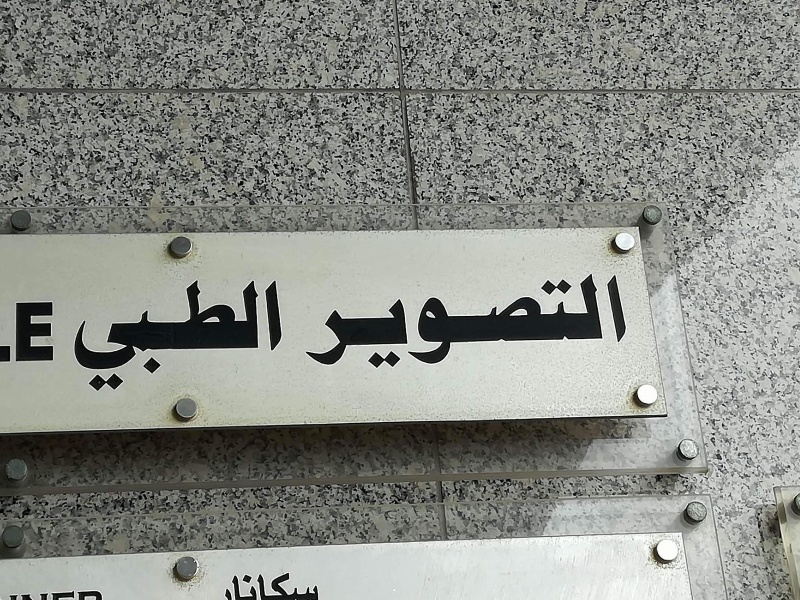text: (81, 278, 96, 392), (97, 278, 112, 392), (113, 278, 128, 392), (129, 278, 144, 392), (145, 278, 160, 392), (161, 278, 176, 392), (177, 278, 192, 392), (193, 278, 208, 392), (209, 278, 224, 392), (225, 278, 240, 392), (241, 278, 256, 392), (257, 278, 272, 392), (321, 272, 336, 372), (337, 272, 352, 372), (353, 272, 368, 372), (369, 272, 384, 372), (385, 272, 400, 372), (401, 272, 416, 372), (417, 272, 432, 372), (433, 272, 448, 372), (449, 272, 464, 372), (465, 272, 480, 372), (481, 272, 496, 372), (497, 272, 512, 372), (513, 272, 528, 372), (529, 272, 544, 372), (545, 272, 560, 372), (561, 272, 576, 372), (577, 272, 592, 372), (593, 272, 608, 372), (609, 272, 624, 372), (273, 278, 285, 392), (308, 272, 320, 372), (17, 301, 32, 365), (33, 301, 48, 365), (72, 278, 80, 392), (225, 570, 240, 600), (241, 570, 256, 600), (257, 570, 272, 600), (273, 570, 288, 600), (289, 570, 304, 600), (305, 570, 319, 600), (49, 301, 55, 365), (625, 272, 628, 372), (15, 301, 16, 365)
